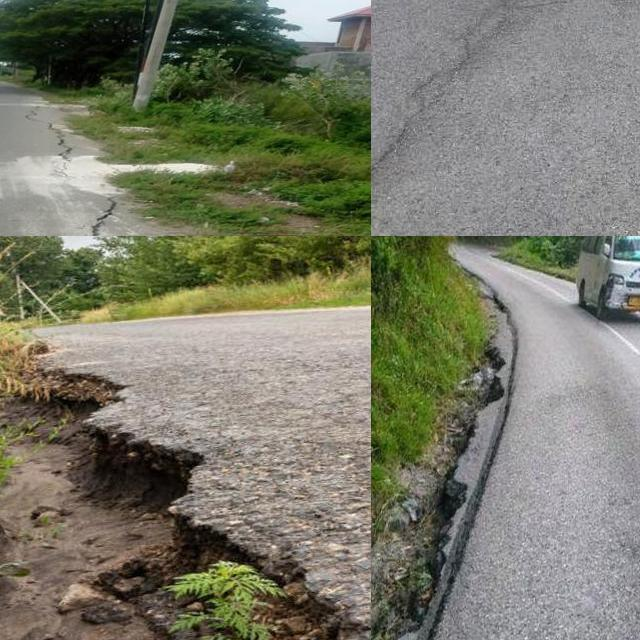Memanjang: (371, 0, 533, 225)
Pinggir: (0, 344, 371, 640), (371, 299, 534, 640), (23, 81, 249, 236)
